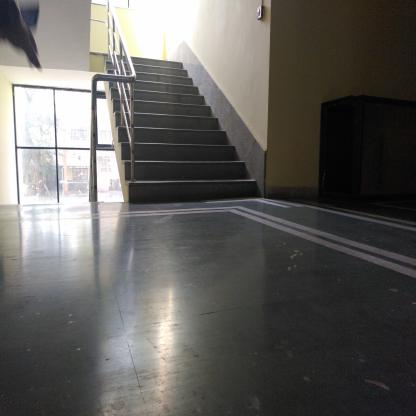stairs: (140, 59, 183, 206)
